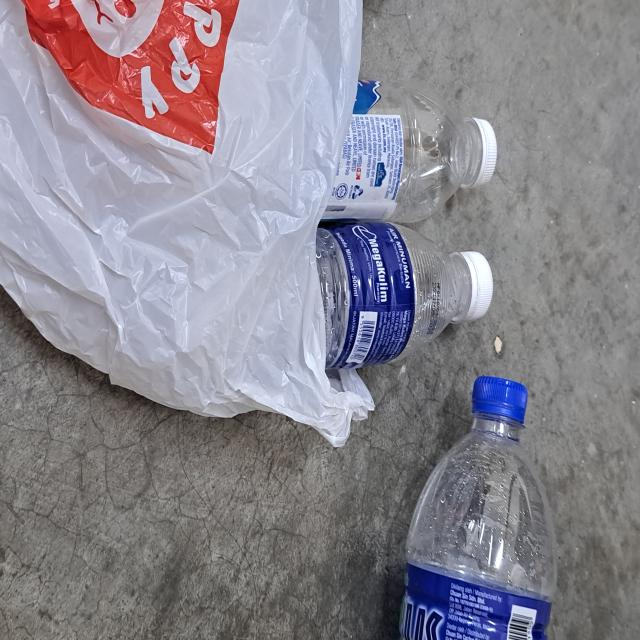plastic bag: (0, 0, 373, 455)
plastic bottle: (403, 423, 558, 640), (292, 224, 458, 372), (326, 80, 473, 224)
plastic bottle cap: (472, 368, 528, 427), (459, 242, 494, 323), (466, 108, 500, 190)
